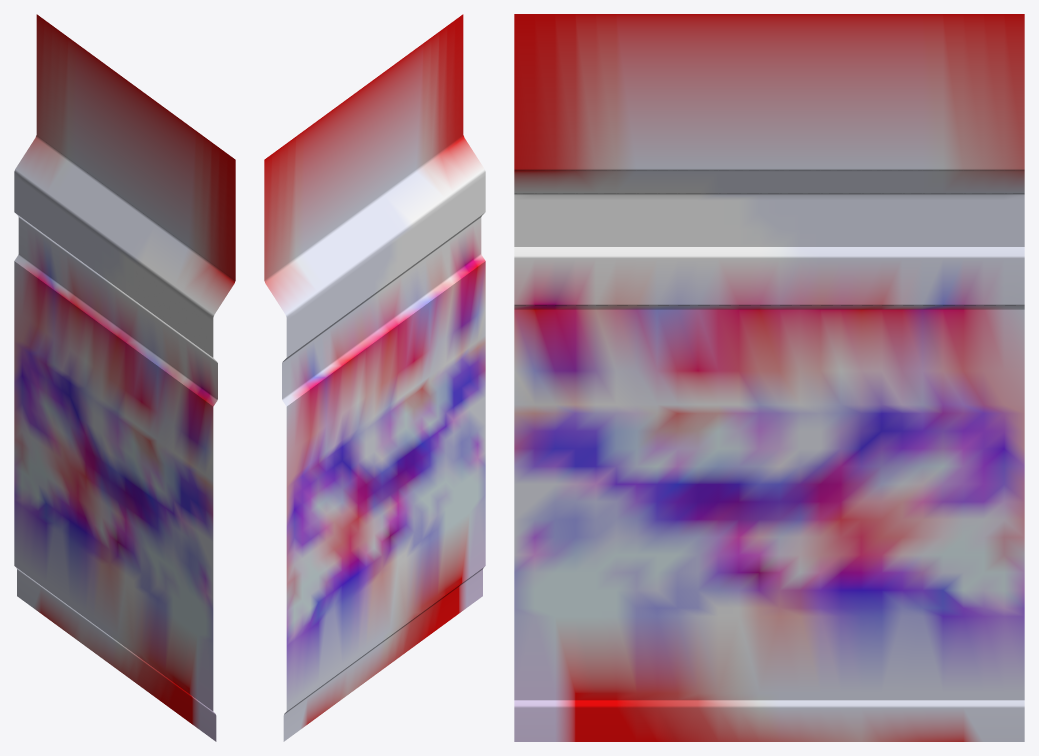
3 views of the same model, side by side, from view 1: azimuth 30°, elevation 25°; view 2: azimuth 150°, elevation 25°; view 3: azimuth 270°, elevation 25° (orthographic). The views are drawn at different scales.
Visible parts, largest first — view 1: SM_Platform_Wall_Large_01_LOD0; view 2: SM_Platform_Wall_Large_01_LOD0; view 3: SM_Platform_Wall_Large_01_LOD0.
Part boxes in pixels (x1,y1,x2,y2): SM_Platform_Wall_Large_01_LOD0: (14,14,235,741); SM_Platform_Wall_Large_01_LOD0: (264,14,485,741); SM_Platform_Wall_Large_01_LOD0: (514,14,1024,741).
Bounding box in the file's own units: 32.32 × 500 × 800.
